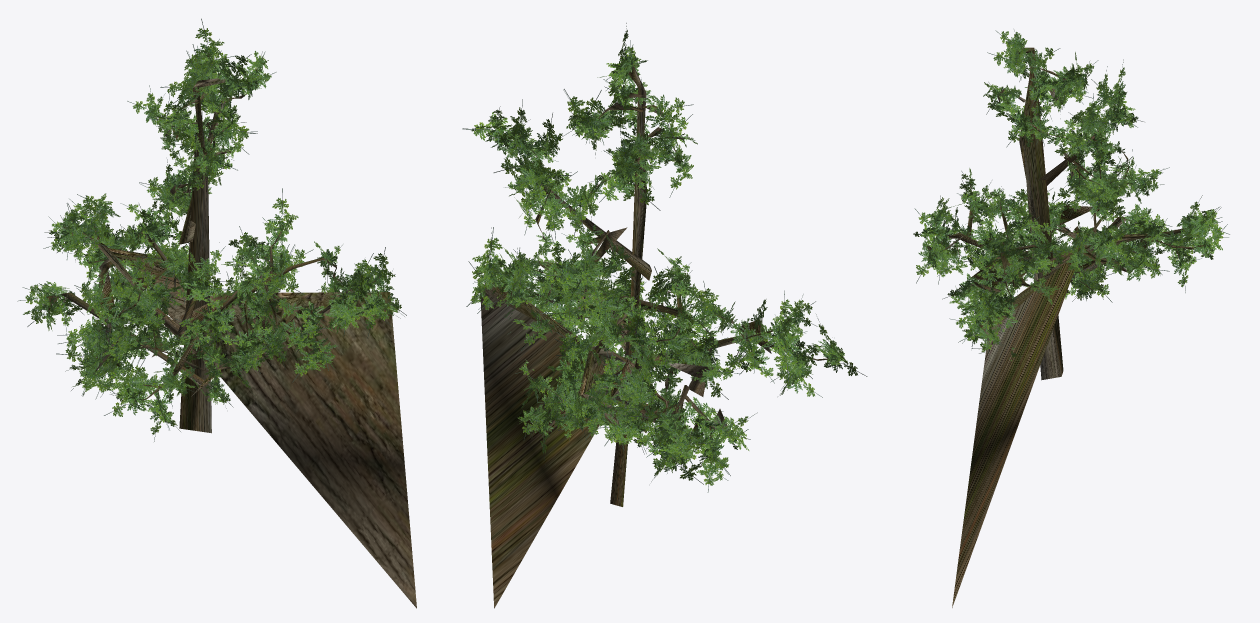
3 renders of one model, left to right at view 1: azimuth 30°, elevation 25°; view 2: azimuth 150°, elevation 25°; view 3: azimuth 270°, elevation 25°, orthographic. The views are drawn at different scales.
Visible parts, largest first — view 1: branches, branches.001; view 2: branches, branches.001; view 3: branches, branches.001.
Boxes of the visible parts, x1,y1,x2,y2 form: branches: (17, 18, 406, 441); branches.001: (40, 53, 416, 608); branches: (462, 23, 867, 492); branches.001: (480, 56, 834, 608); branches: (913, 30, 1229, 365); branches.001: (925, 47, 1205, 607).
Bounding box in the file's own units: 19.84 × 32.71 × 19.55.
Materials: 2 (2 with a texture image).
